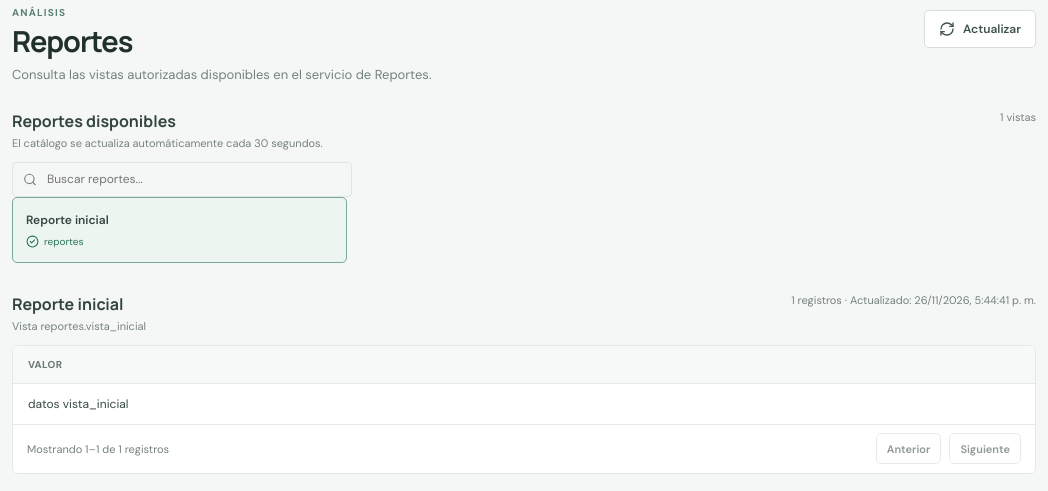
Scenario: ReportsPage › shows added views and switches away from a view removed from the catalog
Expected: the heading "Reporte inicial" is shown, [12, 293, 124, 315]
Expected: the text "datos vista_inicial" is shown, [13, 383, 1035, 424]
What coordinates should you click on to do the following:
click the button "Actualizar"
I would click on:
 (980, 29)
Its box is [924, 10, 1036, 48].
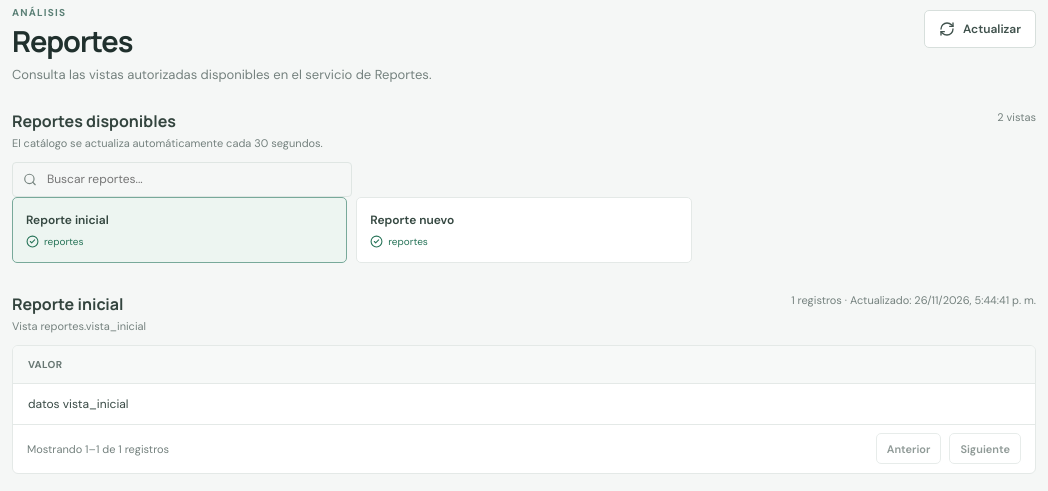
Result: the text "Reporte nuevo" is shown at [370, 212, 454, 228]
What coordinates should you click on to do the following:
click the button "Actualizar"
I would click on:
 (980, 29)
Its box is [924, 10, 1036, 48].
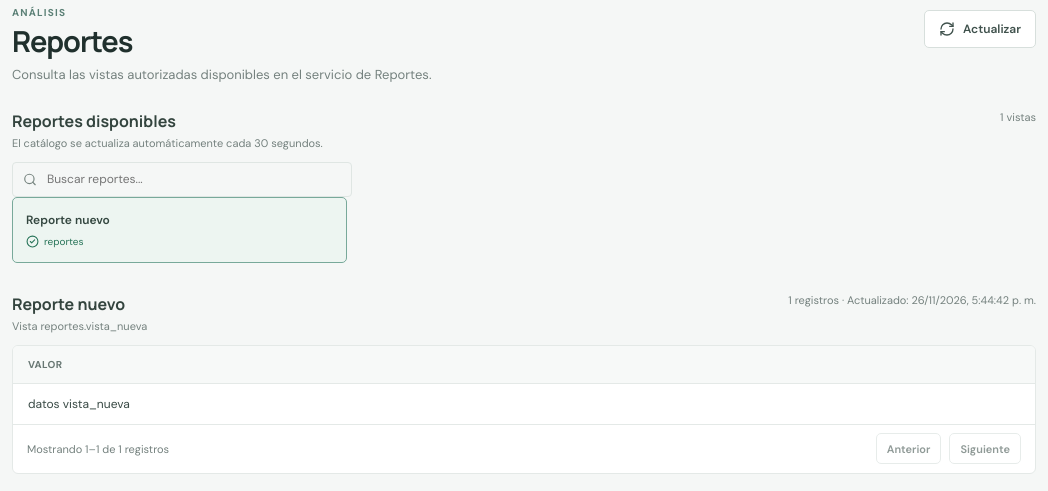
Result: the button "Reporte inicial" is gone
Result: the heading "Reporte nuevo" is shown at [12, 293, 125, 315]
